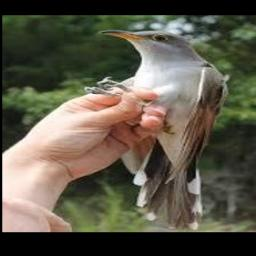Cuckoo: (89, 30, 228, 230)
